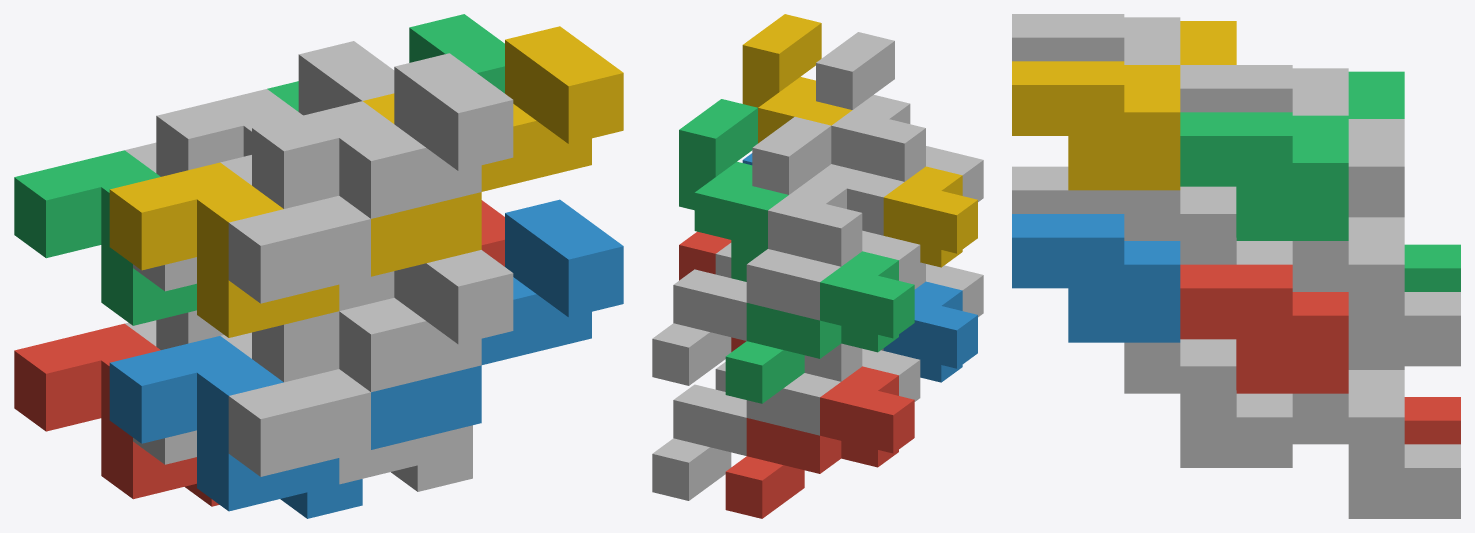
Rendered from tiling.obj.
The picture shows the model from 3 angles, left to right: view 1: azimuth 30°, elevation 25°; view 2: azimuth 150°, elevation 25°; view 3: azimuth 270°, elevation 25°; orthographic projection. The views are drawn at different scales.
Parts seen in each view (by area): view 1: copy_2_domain_4, copy_2_domain_2, copy_2_domain_8, copy_2_domain_6, copy_1_domain_2, copy_1_domain_4, copy_2_domain_3, copy_1_domain_1, copy_1_domain_3, copy_1_domain_6, copy_2_domain_7, copy_2_domain_1 (+2 smaller); view 2: copy_1_domain_1, copy_1_domain_3, copy_2_domain_3, copy_2_domain_4, copy_1_domain_7, copy_2_domain_7, copy_1_domain_5, copy_2_domain_8, copy_1_domain_4, copy_1_domain_2, copy_1_domain_8, copy_2_domain_1 (+2 smaller); view 3: copy_1_domain_7, copy_2_domain_8, copy_2_domain_7, copy_2_domain_5, copy_2_domain_6, copy_1_domain_5, copy_1_domain_6, copy_1_domain_8, copy_2_domain_3, copy_2_domain_4, copy_1_domain_3, copy_2_domain_2 (+2 smaller).
Boxes of the visible parts, box(x1,y1,x2,y2) form: copy_2_domain_4: box(228, 53, 513, 303); copy_2_domain_2: box(228, 250, 513, 476); copy_2_domain_8: box(363, 26, 623, 276); copy_2_domain_6: box(371, 199, 623, 449); copy_1_domain_2: box(109, 336, 362, 518); copy_1_domain_4: box(109, 162, 339, 337); copy_2_domain_3: box(133, 41, 394, 291); copy_1_domain_1: box(14, 323, 219, 506); copy_1_domain_3: box(14, 150, 196, 325); copy_1_domain_6: box(220, 332, 472, 491); copy_2_domain_7: box(267, 14, 504, 111); copy_2_domain_1: box(133, 310, 223, 464); copy_1_domain_1: box(725, 366, 914, 518); copy_1_domain_3: box(725, 251, 914, 403); copy_2_domain_3: box(752, 117, 920, 286); copy_2_domain_4: box(816, 32, 983, 201); copy_1_domain_7: box(652, 249, 840, 385); copy_2_domain_7: box(679, 99, 788, 281); copy_1_domain_5: box(652, 373, 840, 500); copy_2_domain_8: box(742, 14, 852, 143); copy_1_domain_4: box(883, 166, 977, 267); copy_1_domain_2: box(883, 281, 977, 382); copy_1_domain_8: box(715, 164, 903, 277); copy_2_domain_1: box(804, 343, 920, 401); copy_1_domain_7: box(1292, 119, 1460, 366); copy_2_domain_8: box(1012, 61, 1180, 190); copy_2_domain_7: box(1180, 112, 1348, 240); copy_2_domain_5: box(1180, 264, 1348, 393); copy_2_domain_6: box(1012, 214, 1180, 342); copy_1_domain_5: box(1292, 366, 1460, 518); copy_1_domain_6: box(1124, 339, 1292, 467); copy_1_domain_8: box(1124, 186, 1292, 264); copy_2_domain_3: box(1180, 65, 1348, 115); copy_2_domain_4: box(1012, 14, 1180, 64); copy_1_domain_3: box(1348, 71, 1460, 291); copy_2_domain_2: box(1012, 166, 1124, 213).
Size of the model in its own units: 7 by 9 by 8.
